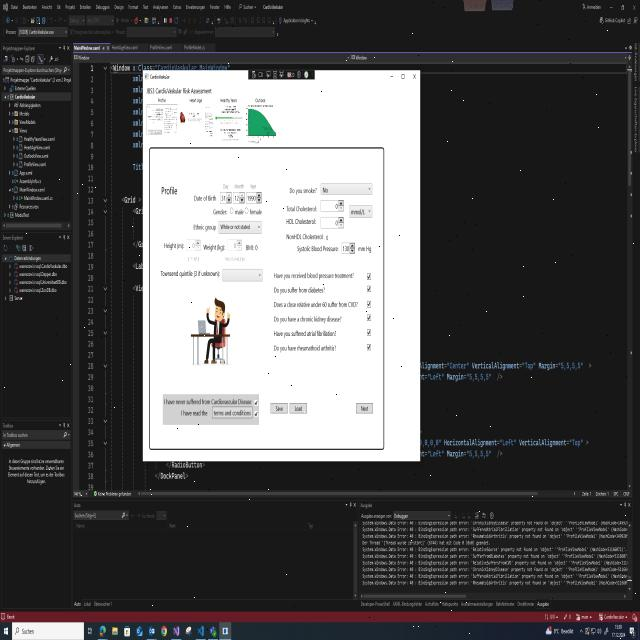button: (211, 406, 254, 420), (354, 401, 374, 418), (288, 400, 308, 416), (270, 400, 288, 416), (387, 72, 397, 83), (409, 72, 419, 82), (400, 72, 406, 82)
checkbox: (364, 284, 374, 294), (366, 298, 374, 310), (365, 313, 373, 324), (364, 342, 372, 353), (365, 327, 373, 337), (366, 270, 373, 281), (253, 409, 260, 418), (253, 398, 259, 408)
dropdownMenu: (320, 180, 374, 197), (221, 266, 263, 282), (217, 220, 264, 234), (348, 203, 376, 221)
input: (12, 623, 84, 640)
label: (273, 297, 359, 310), (272, 269, 355, 282), (163, 395, 252, 405), (159, 267, 221, 281), (146, 85, 212, 98), (272, 342, 339, 354), (273, 328, 339, 339), (273, 314, 345, 324), (272, 285, 326, 296), (296, 243, 340, 255), (288, 183, 319, 200), (283, 232, 329, 243), (180, 406, 209, 420), (284, 216, 317, 228), (159, 181, 181, 198), (202, 239, 226, 254), (285, 204, 318, 214), (161, 238, 185, 251), (191, 192, 218, 203), (192, 222, 216, 232), (149, 73, 174, 82), (357, 242, 373, 256), (210, 206, 228, 218), (186, 254, 204, 266), (224, 255, 248, 264), (244, 240, 260, 253), (185, 95, 207, 104), (232, 179, 245, 192), (218, 96, 239, 104), (250, 207, 264, 218), (156, 95, 172, 104), (247, 178, 258, 190), (254, 96, 270, 104), (222, 182, 230, 192), (234, 208, 244, 216)
radio: (229, 206, 234, 215), (244, 206, 249, 215)
upDown: (320, 199, 345, 213), (320, 216, 344, 230), (185, 238, 201, 252), (341, 240, 356, 254), (246, 191, 262, 204), (218, 191, 232, 204), (228, 239, 242, 252), (232, 191, 245, 204)
